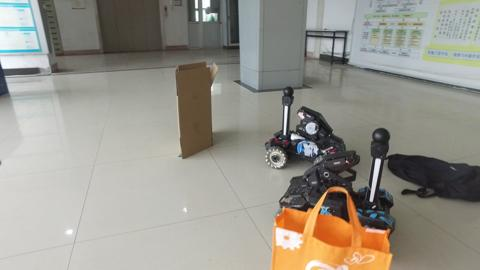box: (172, 64, 215, 157)
chariot: (289, 129, 393, 229), (262, 88, 347, 166)
